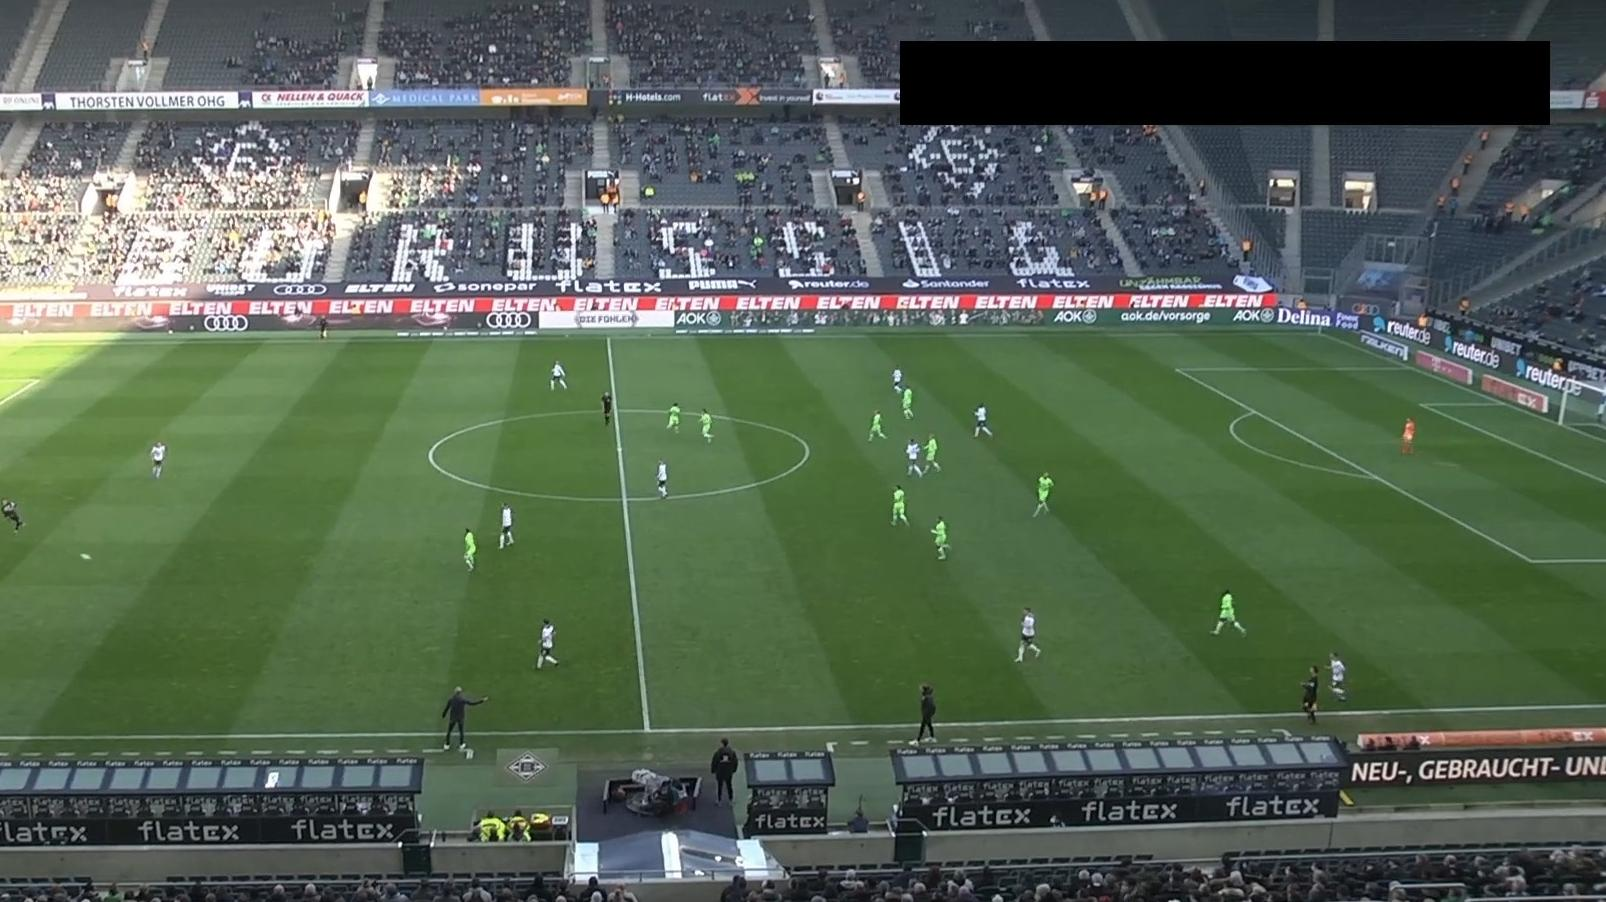ball: (79, 551, 92, 562)
